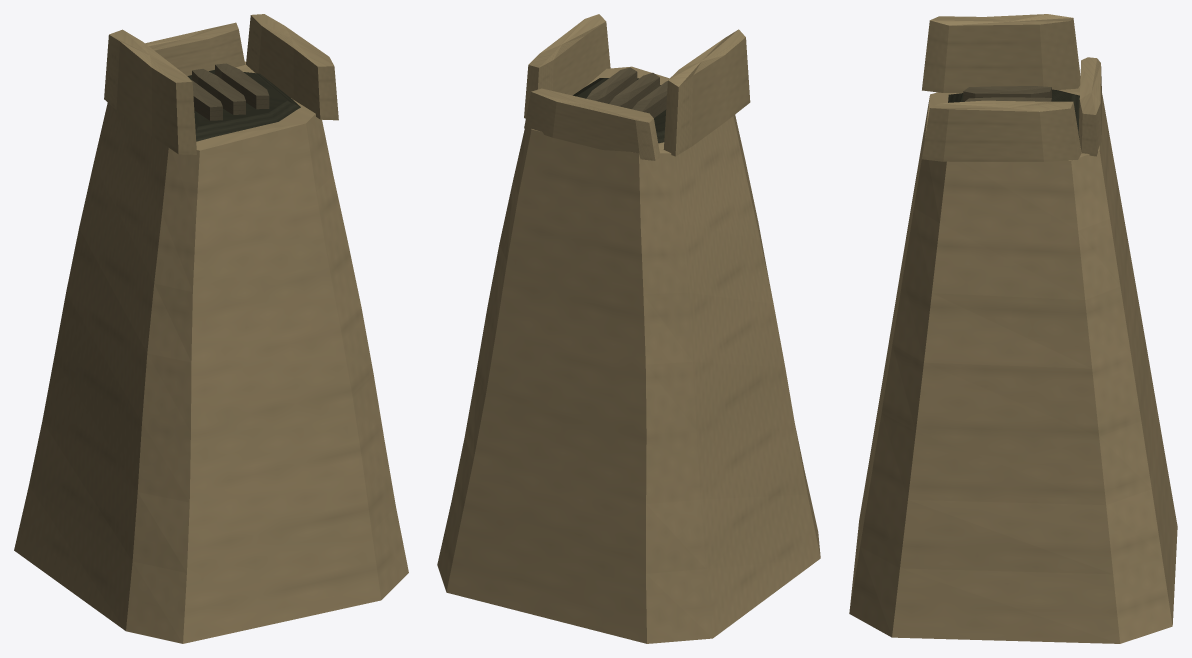
The model's file is beacon-han-lod0.glb.
3 views of the same model, side by side, from view 1: azimuth 30°, elevation 25°; view 2: azimuth 150°, elevation 25°; view 3: azimuth 270°, elevation 25° (orthographic).
Bounding box in the file's own units: 0.2222 × 0.3892 × 0.222.
Materials: 1 (1 with a texture image).
